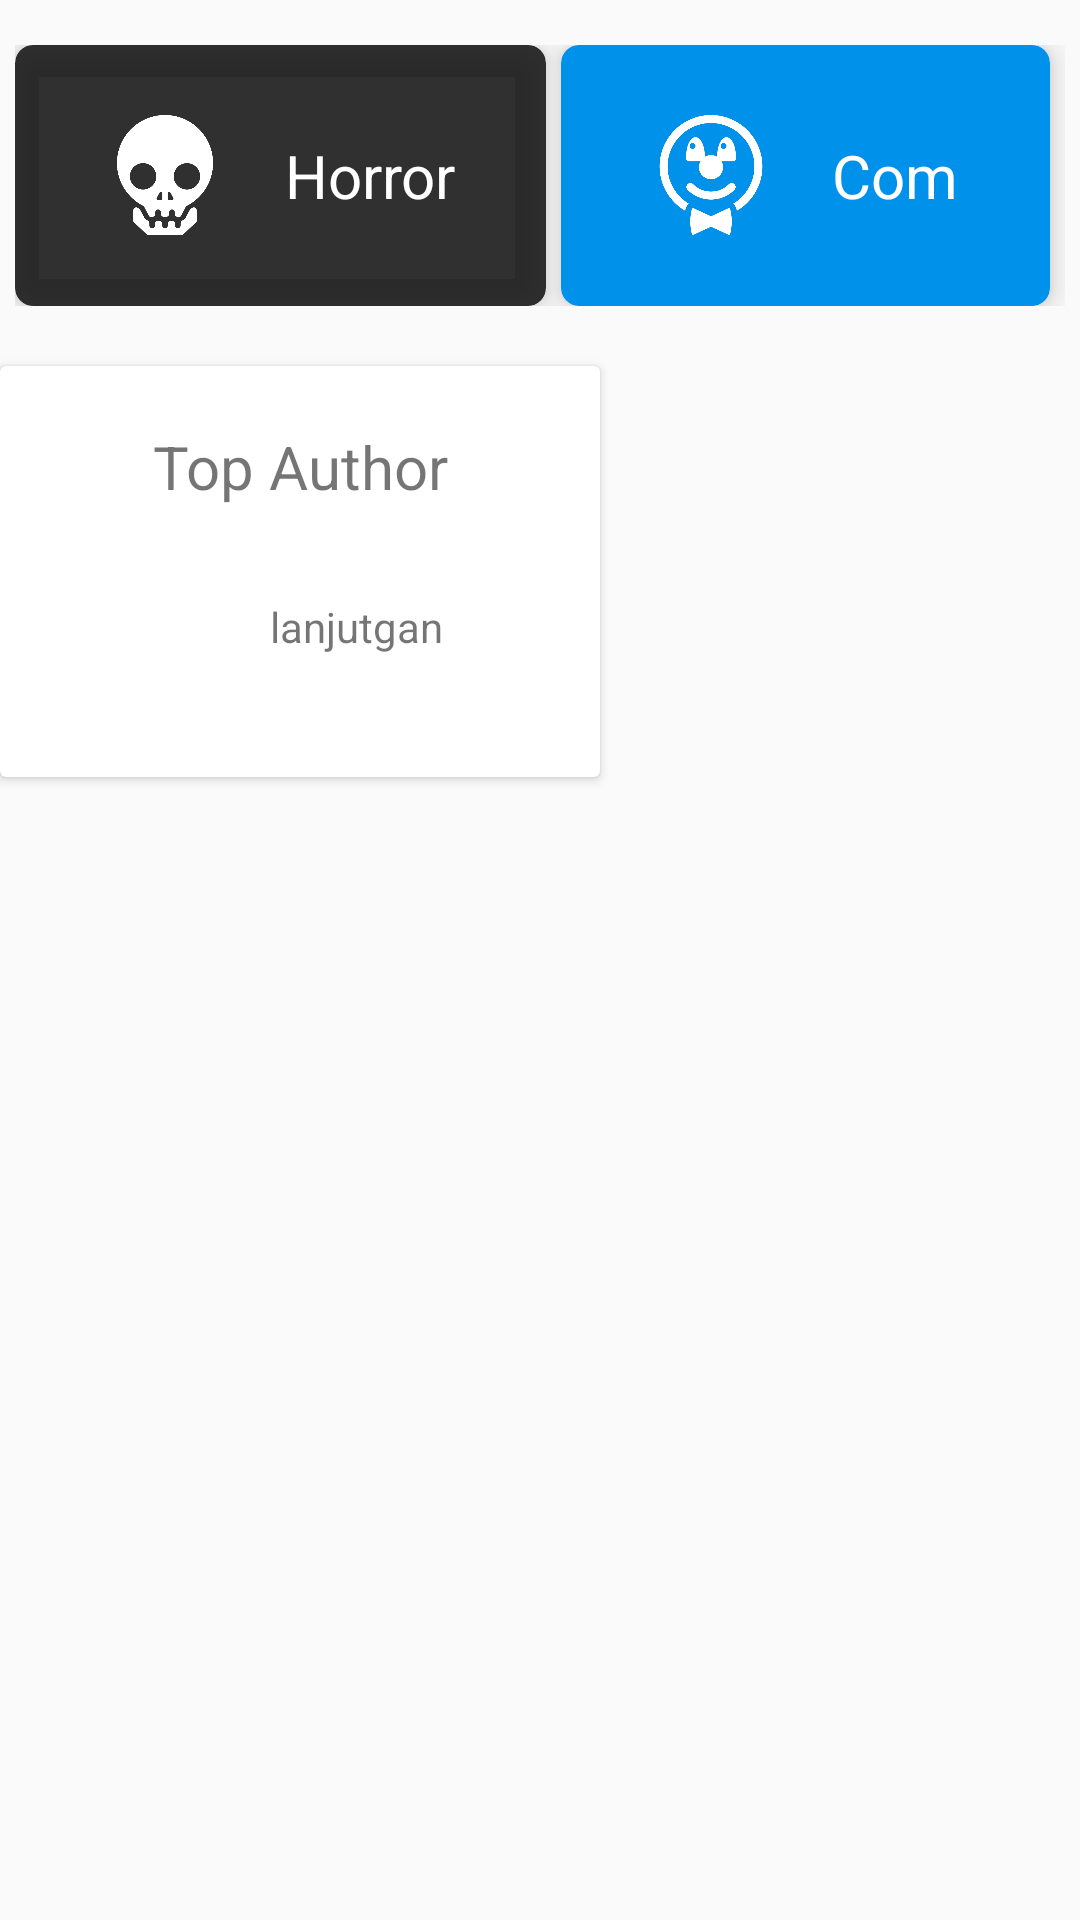

Named icons in this screenshot (1080 × 1920) and their centers, (x,y):
skull: (165,175)
